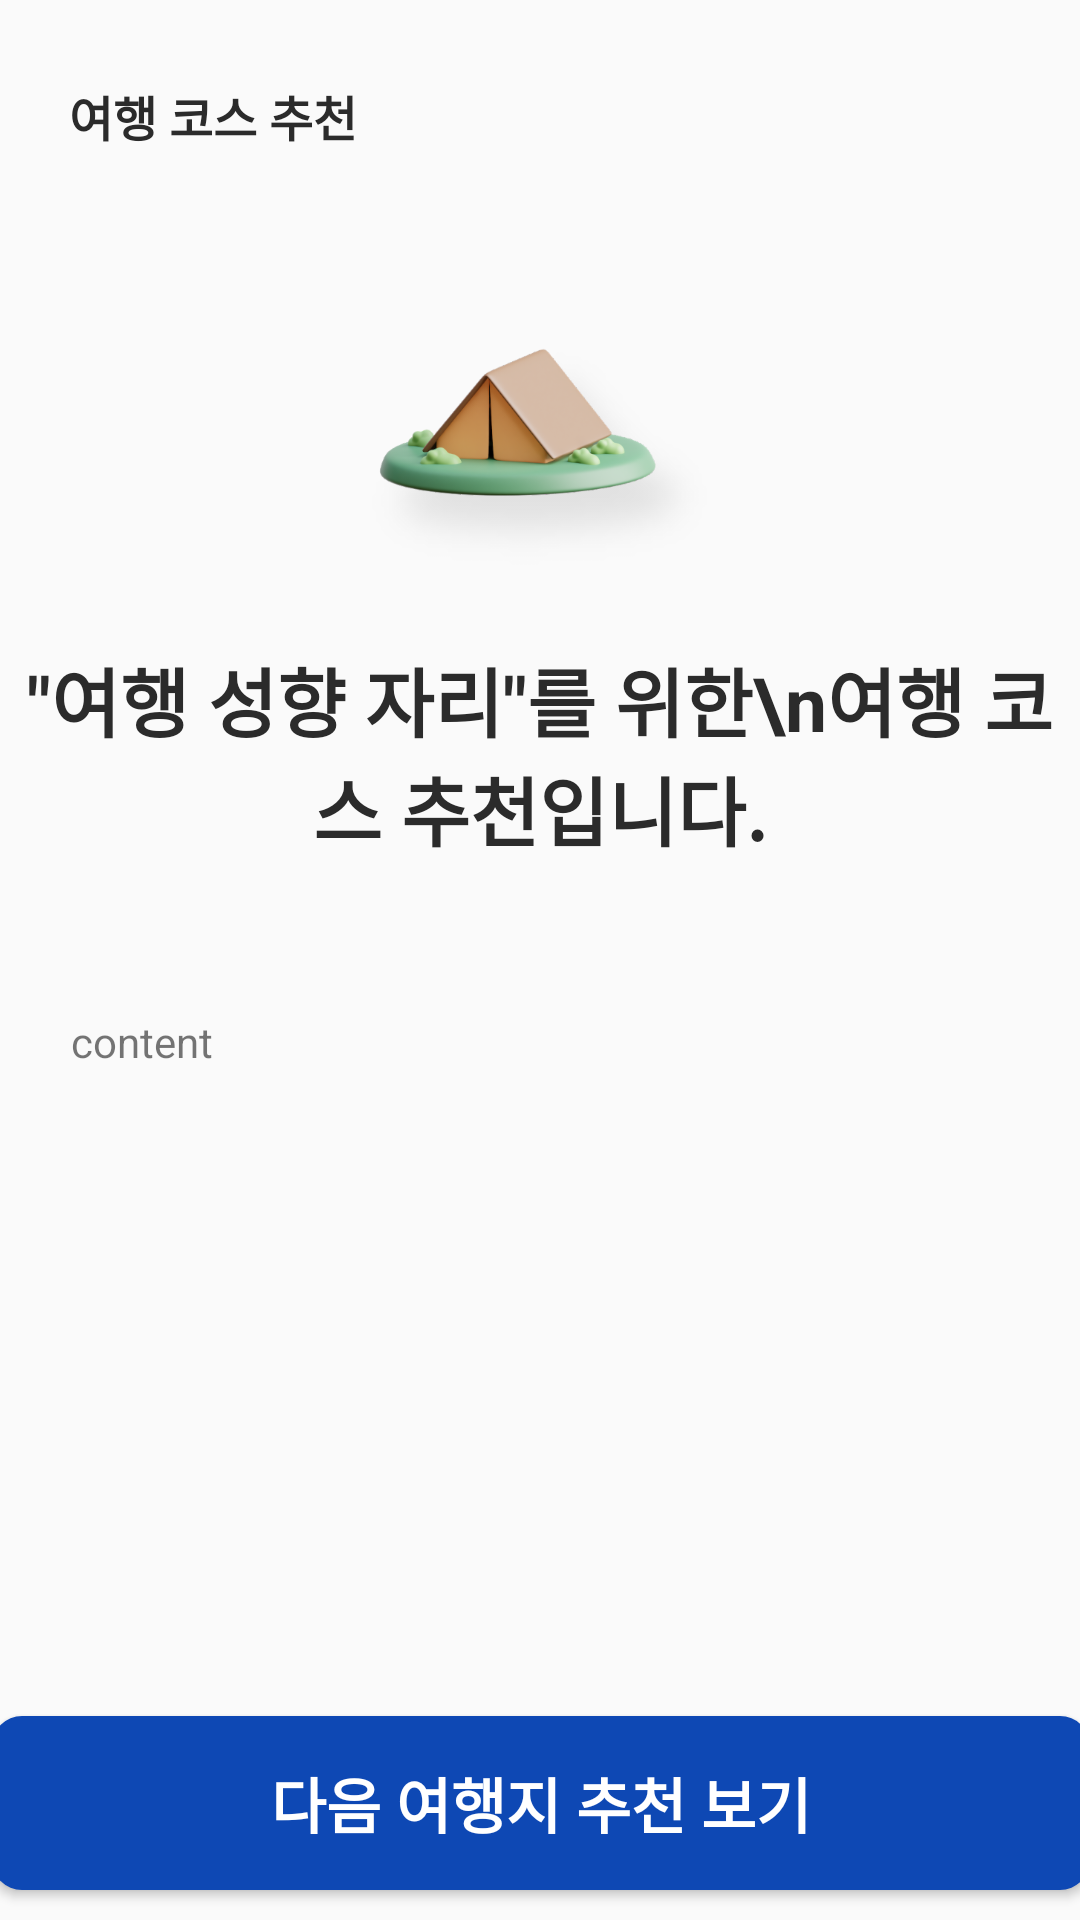

Screen size 1080*1920. Icon name, then its box in pixels as (left=x1, top=y1, right=x2, bottom=y2):
camping: (left=380, top=349, right=656, bottom=502)
